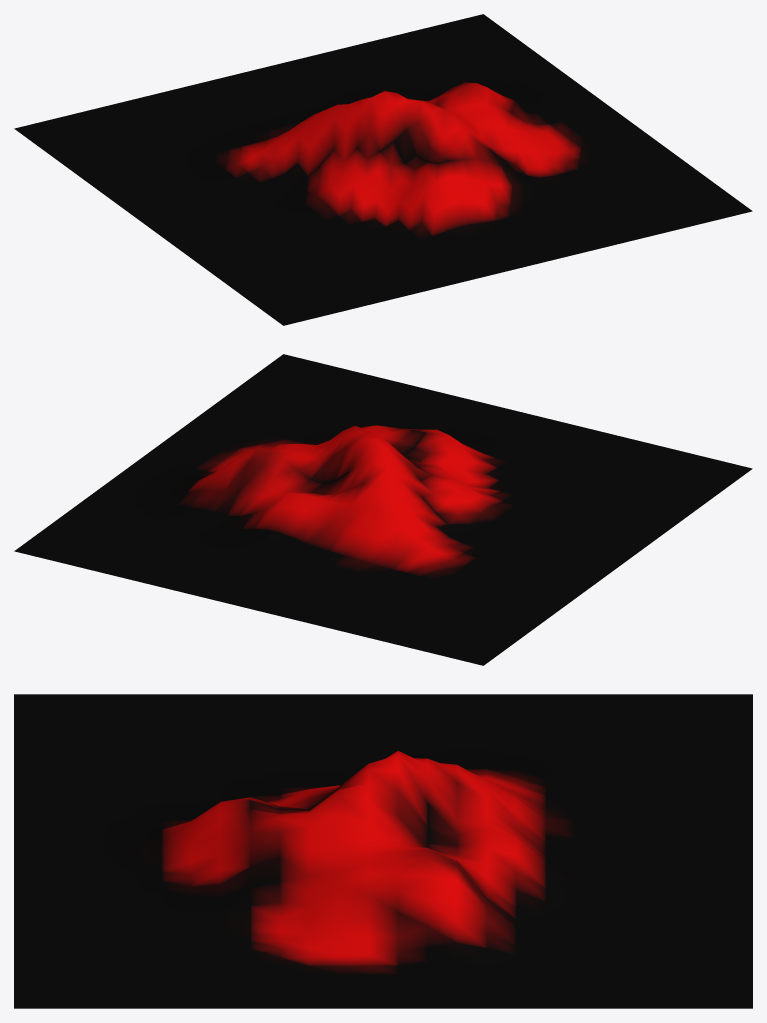
Rendered from terrain.fbx.
3 views of the same model, one above another, from view 1: azimuth 30°, elevation 25°; view 2: azimuth 150°, elevation 25°; view 3: azimuth 270°, elevation 25° (orthographic). The views are drawn at different scales.
Visible parts, largest first — view 1: Plane001; view 2: Plane001; view 3: Plane001.
Part boxes in pixels (x1,y1,x2,y2): Plane001: [14, 14, 752, 325]; Plane001: [14, 354, 752, 665]; Plane001: [14, 694, 752, 1008].
Bounding box in the file's own units: 137 × 20.52 × 137.
